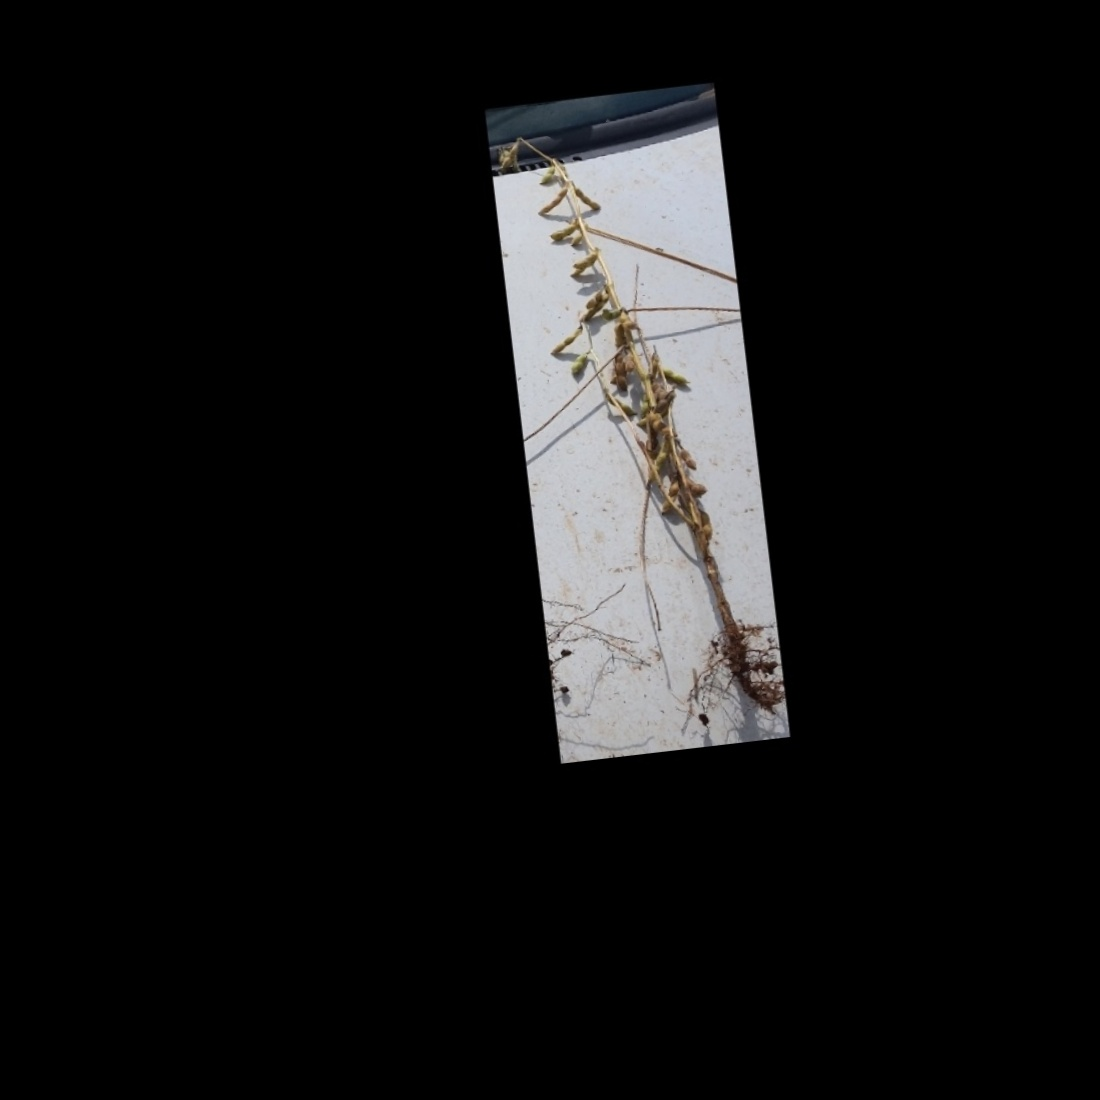pod: (547, 326, 582, 357), (535, 186, 571, 216), (658, 363, 692, 388), (576, 182, 602, 213), (679, 445, 702, 474), (567, 352, 589, 377), (547, 222, 576, 239), (536, 164, 556, 185), (567, 231, 584, 251)
soy: (489, 108, 772, 749)
